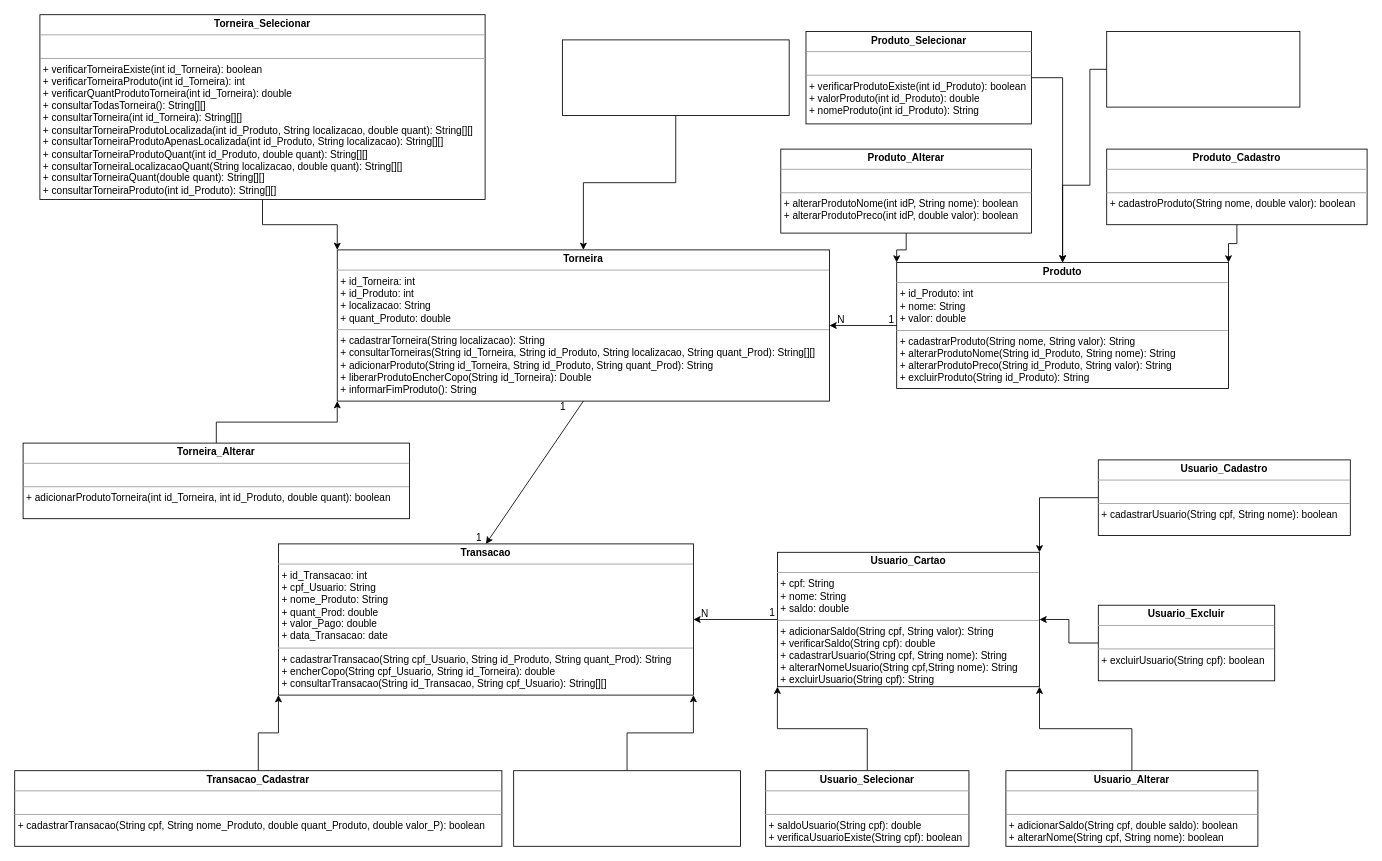
Some shapes in this 1382 by 861 pixel diagram are drawn without their labels. Each missing label, with the centre of its shape:
Produto_Excluir + excluirProduto(int id_Produto): boolean: (1203,69)
Torneira_Cadastro + cadastrarTorneira(String localizacao): boolean: (675,77)
Transacao_Selecionar + verificaTransacao(int id_Transacao): String[][]: (626,808)
